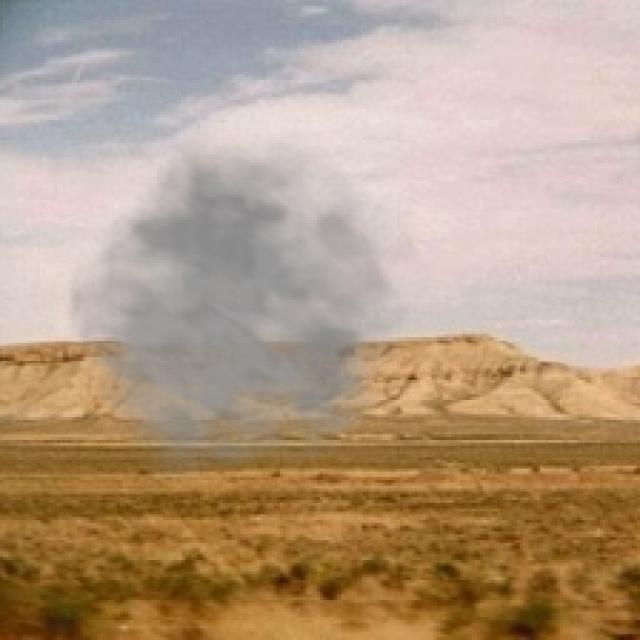smoke: (66, 117, 437, 483)
